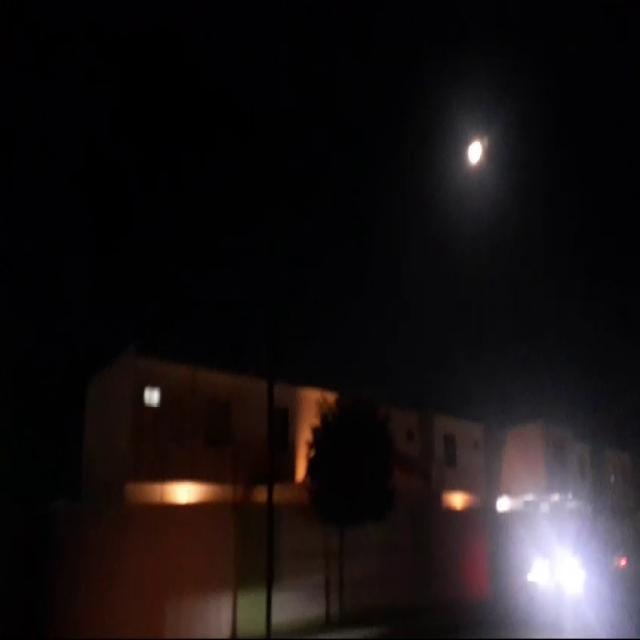moon: (464, 138, 484, 172)
